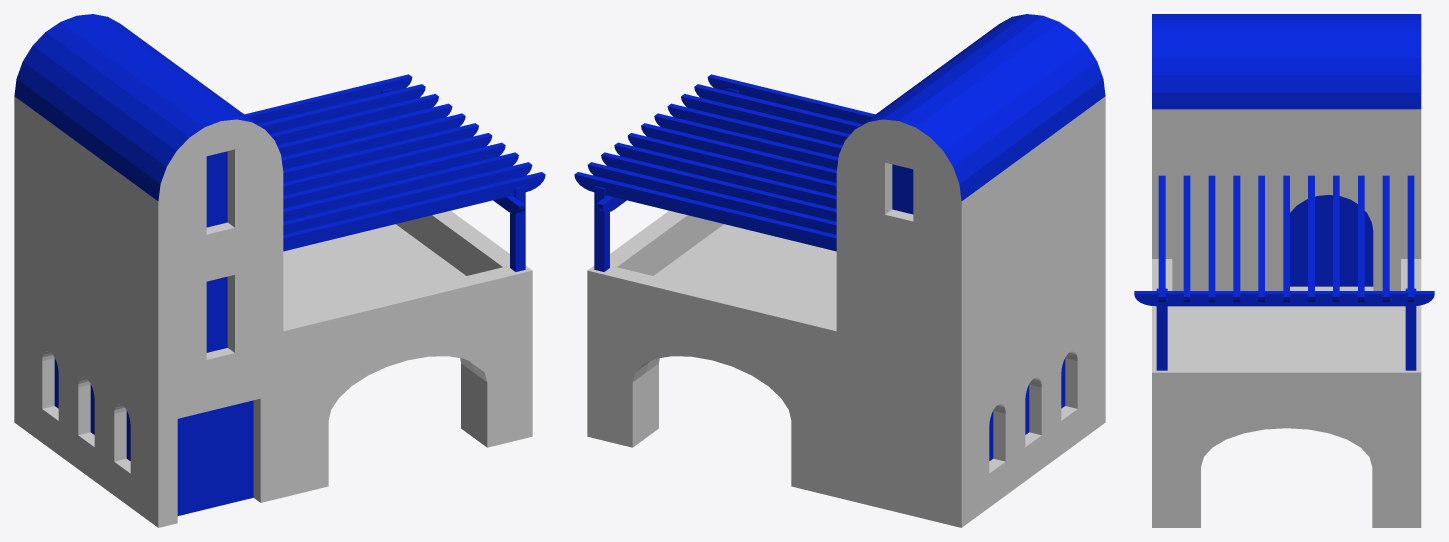
Rendered from SM_Module10_001.fbx.
3 views of the same model, side by side, from view 1: azimuth 30°, elevation 25°; view 2: azimuth 150°, elevation 25°; view 3: azimuth 270°, elevation 25° (orthographic). The views are drawn at different scales.
Visible parts, largest first — view 1: 1WF1WB.013, 1WF1DS.003, ARRAY.190, BigArches.011, 1DF3WS.003, Terasse.008, Door.067, WIndow2.136, WIndow2.134, ARRAY.187, Window3.128; view 2: 1WF1WB.013, 1WF1DS.003, 1DF3WS.003, ARRAY.190, BigArches.011, Terasse.008, ARRAY.188, WIndow2.135, Window3.128; view 3: 1WF1WB.013, BigArches.011, Terasse.008, 1WF1DS.003, ARRAY.190, Door2.044, ARRAY.189, ARRAY.187, ARRAY.188.
Boxes of the visible parts, x1,y1,x2,y2 form: 1WF1WB.013: [14, 14, 283, 266]; 1WF1DS.003: [14, 161, 283, 397]; ARRAY.190: [244, 74, 545, 251]; BigArches.011: [283, 224, 532, 497]; 1DF3WS.003: [14, 292, 283, 527]; Terasse.008: [283, 210, 532, 366]; Door.067: [177, 400, 253, 515]; WIndow2.136: [206, 151, 227, 227]; WIndow2.134: [206, 276, 227, 352]; ARRAY.187: [510, 186, 525, 271]; Window3.128: [54, 358, 130, 460]; 1WF1WB.013: [836, 14, 1105, 266]; 1WF1DS.003: [836, 161, 1105, 397]; 1DF3WS.003: [836, 292, 1105, 527]; ARRAY.190: [574, 74, 875, 251]; BigArches.011: [587, 224, 836, 497]; Terasse.008: [587, 210, 836, 366]; ARRAY.188: [594, 186, 609, 271]; WIndow2.135: [892, 164, 913, 214]; Window3.128: [989, 358, 1065, 460]; 1WF1WB.013: [1152, 14, 1421, 170]; BigArches.011: [1152, 306, 1421, 527]; Terasse.008: [1152, 259, 1421, 405]; 1WF1DS.003: [1152, 170, 1421, 290]; ARRAY.190: [1158, 175, 1414, 302]; Door2.044: [1290, 195, 1373, 286]; ARRAY.189: [1134, 291, 1434, 306]; ARRAY.187: [1156, 288, 1167, 370]; ARRAY.188: [1405, 288, 1416, 370].
Size of the model in its own units: 783 by 750 by 558.
